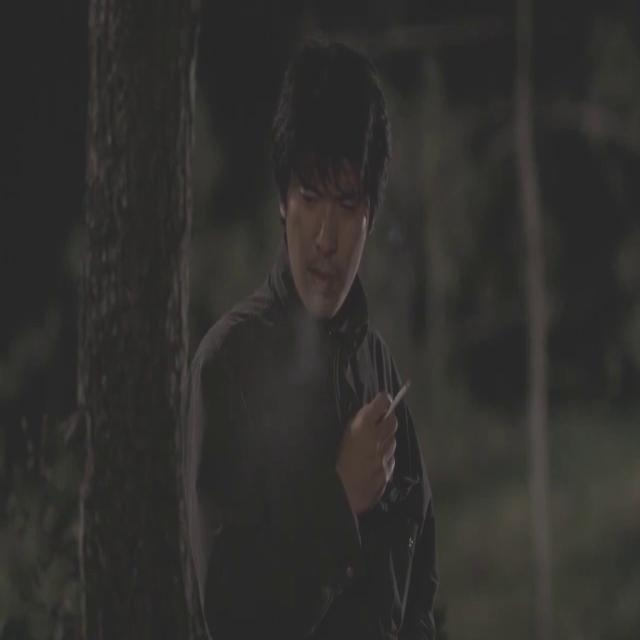Smooking: (387, 356, 418, 414)
